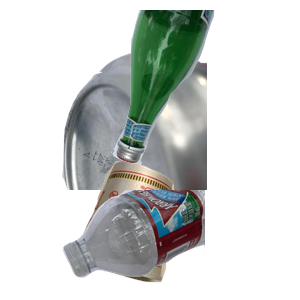glass: (109, 10, 300, 167)
metal: (60, 44, 300, 224)
plastic: (60, 190, 300, 280)
trash: (68, 158, 235, 300)
